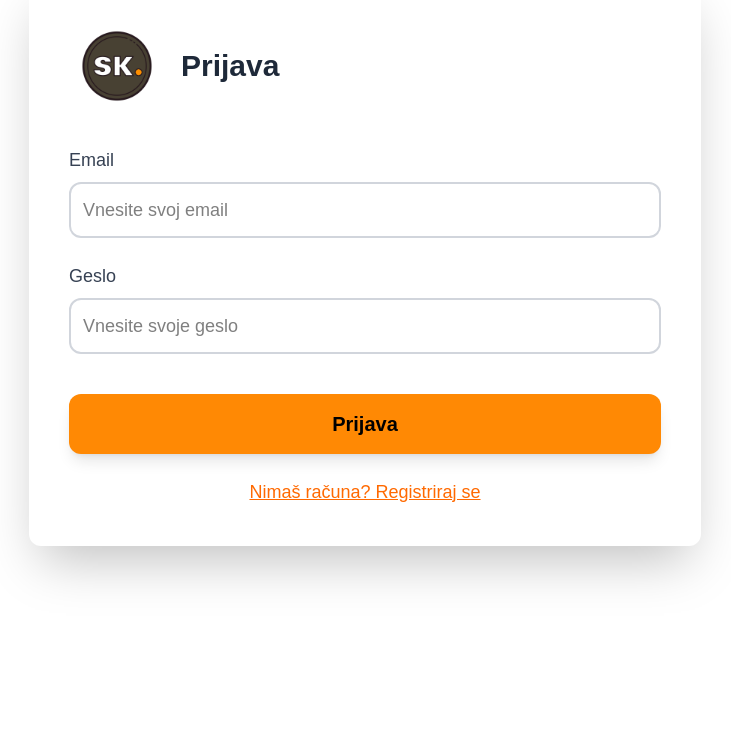
Test case: AuthForm Component › Mode Switching › switches to signup mode when clicking register link
Check: the heading "Prijava" is shown, box [181, 48, 279, 84]
Note: Poišči in klikni povezavo za registracijo
Click the button "Nimaš računa? Registriraj se": (365, 492) [250, 478, 481, 506]
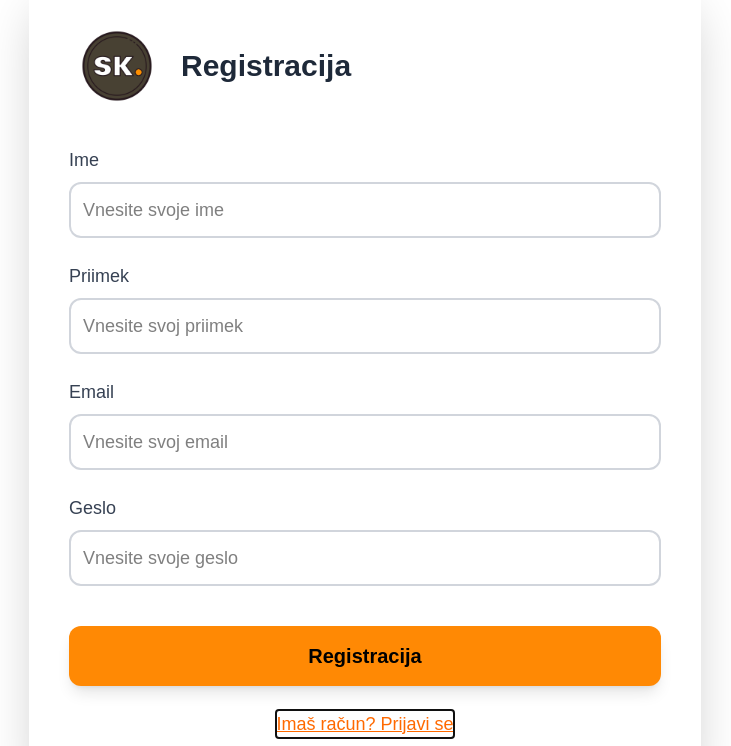
Check: the heading "Registracija" is shown, box [181, 48, 351, 84]
Check: the field with placeholder "Vnesite svoje ime" is shown, box [69, 182, 661, 238]
Check: the field with placeholder "Vnesite svoj priimek" is shown, box [69, 298, 661, 354]
